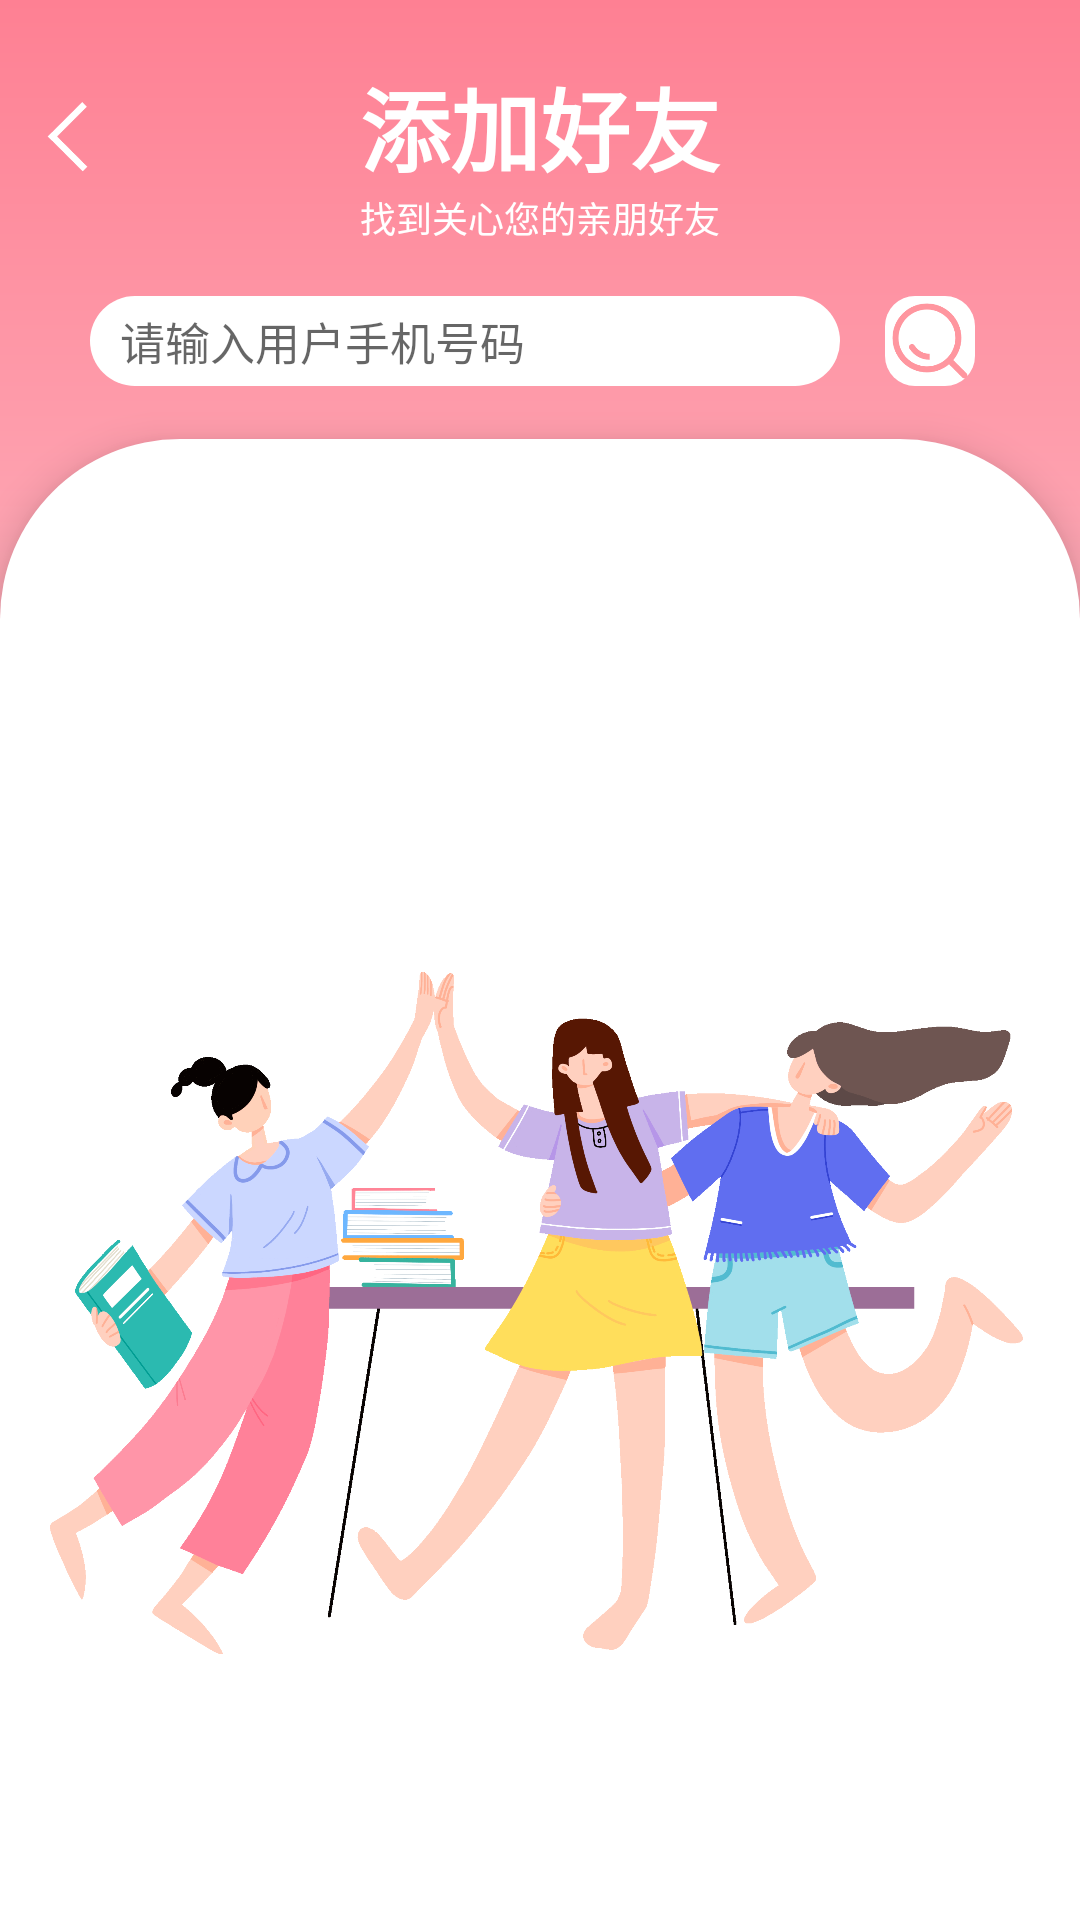

Where icons sit on this 1080x1920 app screen, as Rect(x1, y1, x2, y2):
back: Rect(48, 102, 87, 171)
search: Rect(885, 296, 975, 386)
